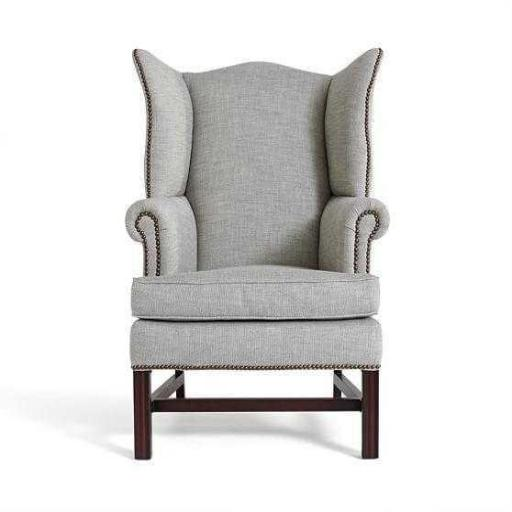chair: (125, 42, 389, 467)
